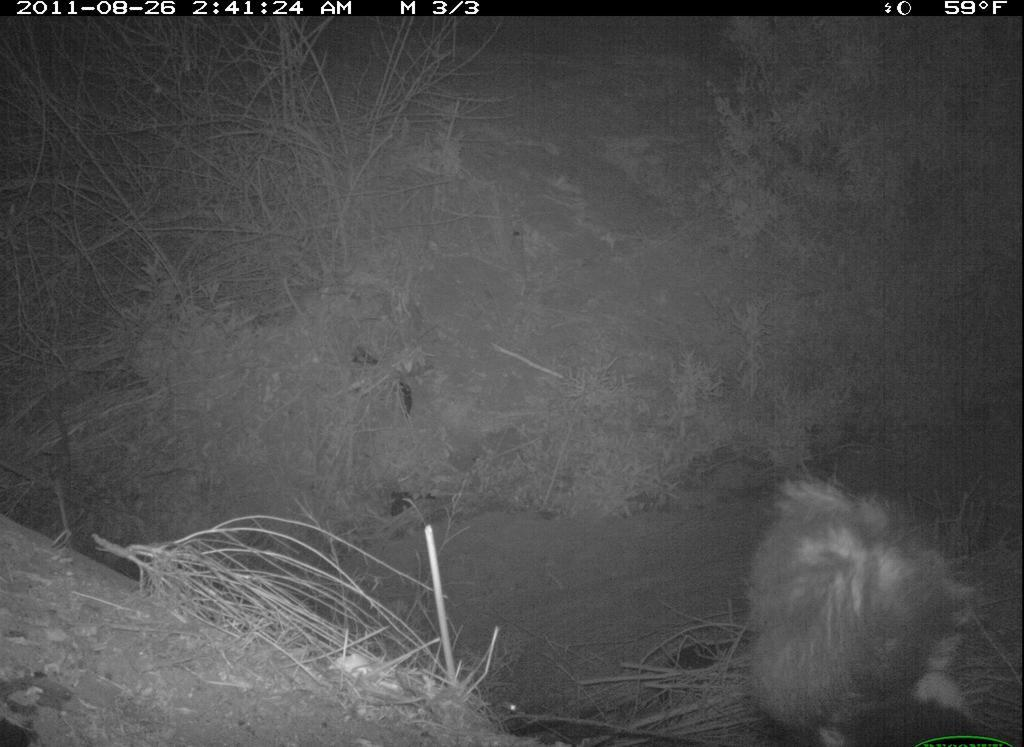skunk: (742, 475, 967, 747)
